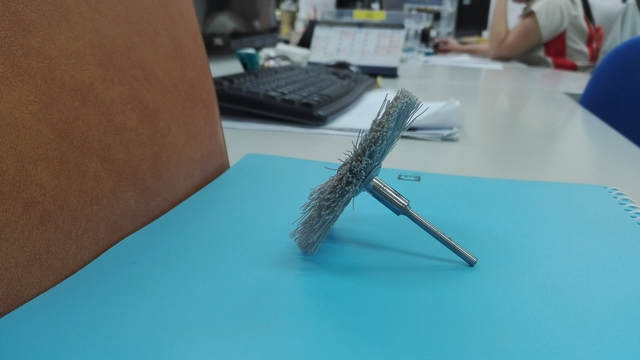TOOL: (248, 72, 471, 291)
